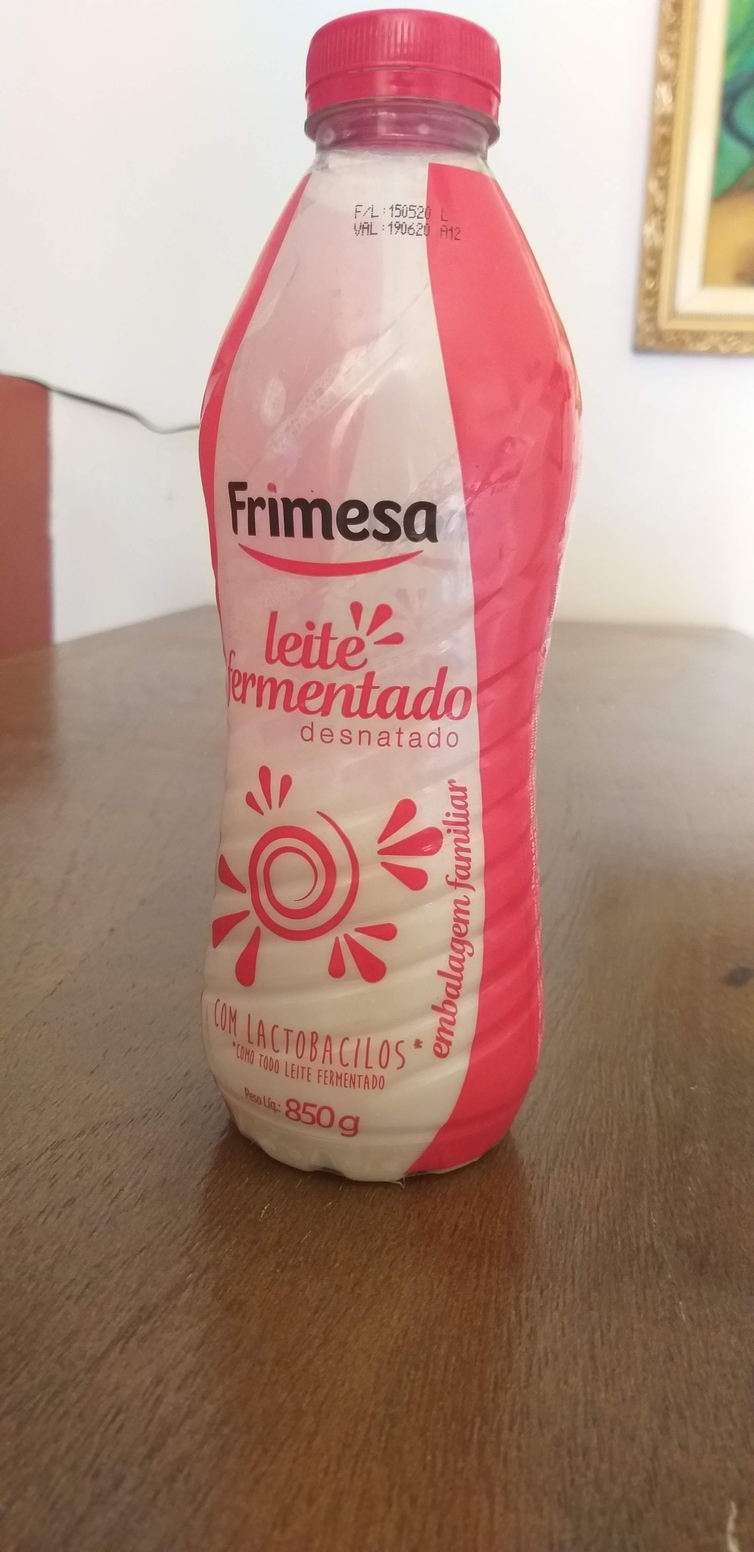bottle-plastic: (193, 6, 583, 1190)
